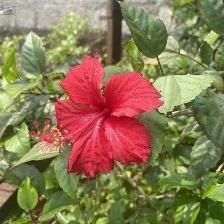hibiscus: (26, 50, 169, 184)
